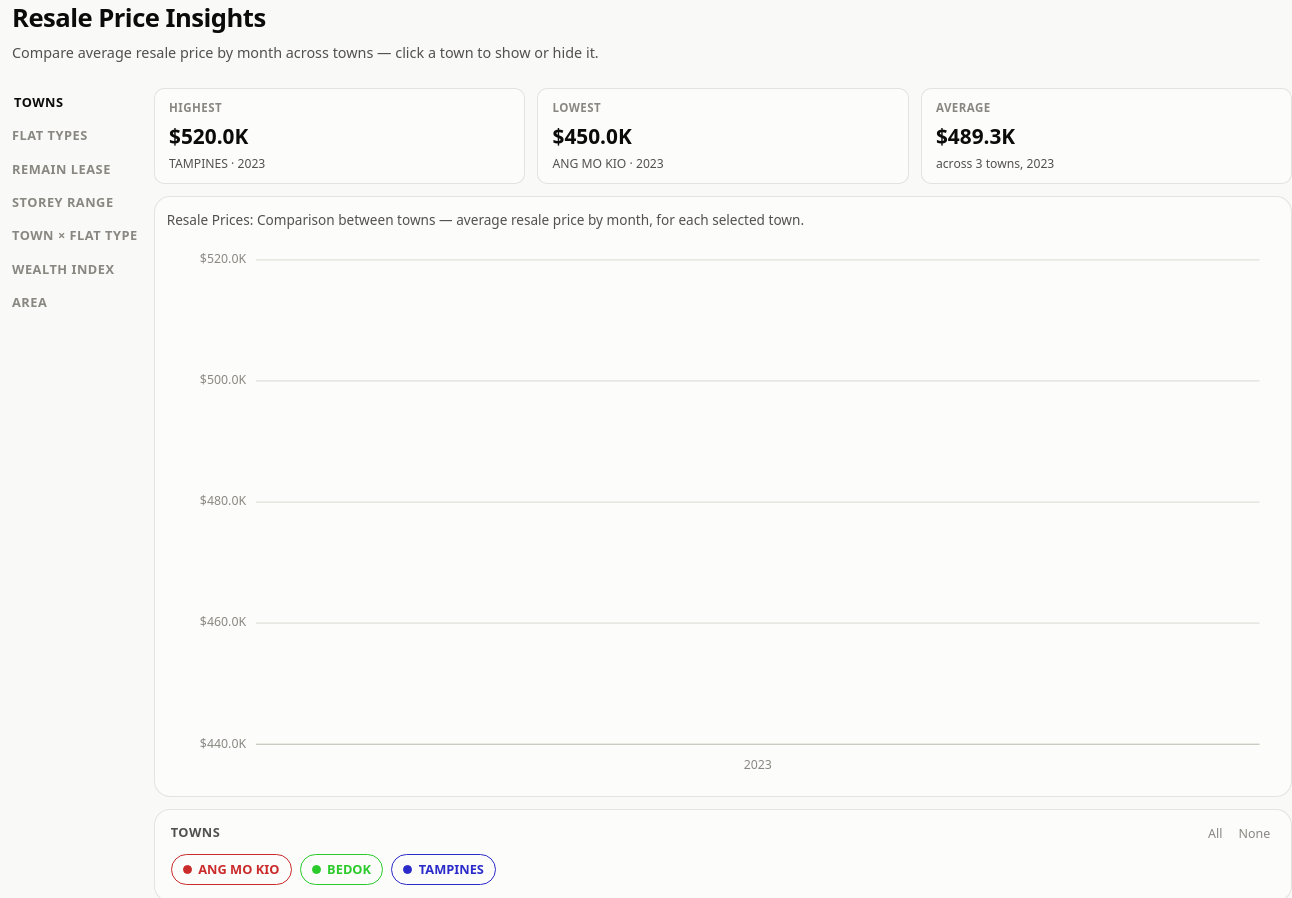
Scenario: InsightsPage › switches the Flat Types chart to the transaction count view via the metric toggle
Expected: the button "BEDOK" is shown, [300,854,383,885]
Click the button "Flat Types". click: (75, 136)
box: [12,121,138,151]
(page scrolled)
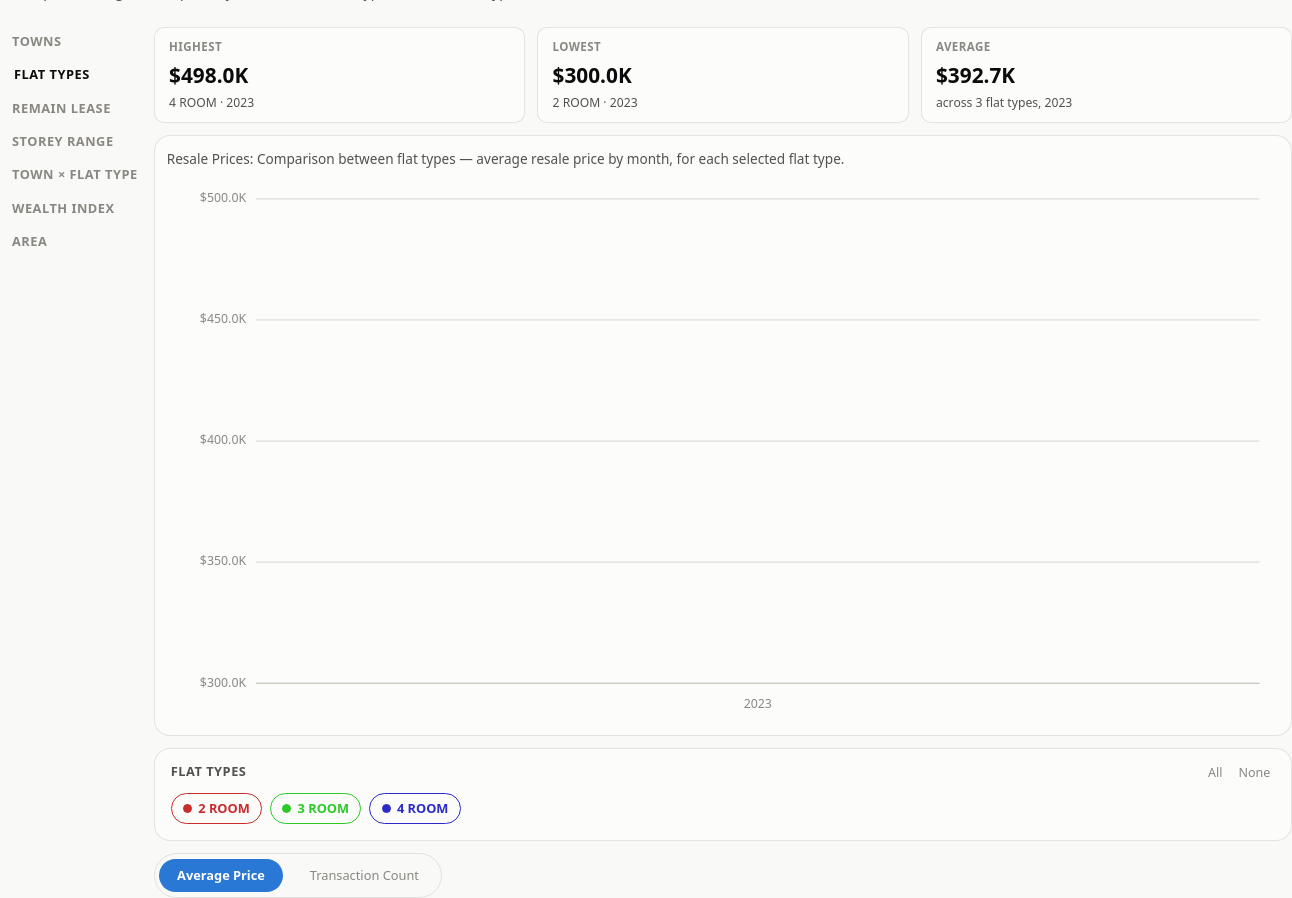
Expected: the button "4 ROOM" is shown, [369,793,461,824]
Click the button "Transaction Count". click: (364, 876)
box: [292,859,436,892]
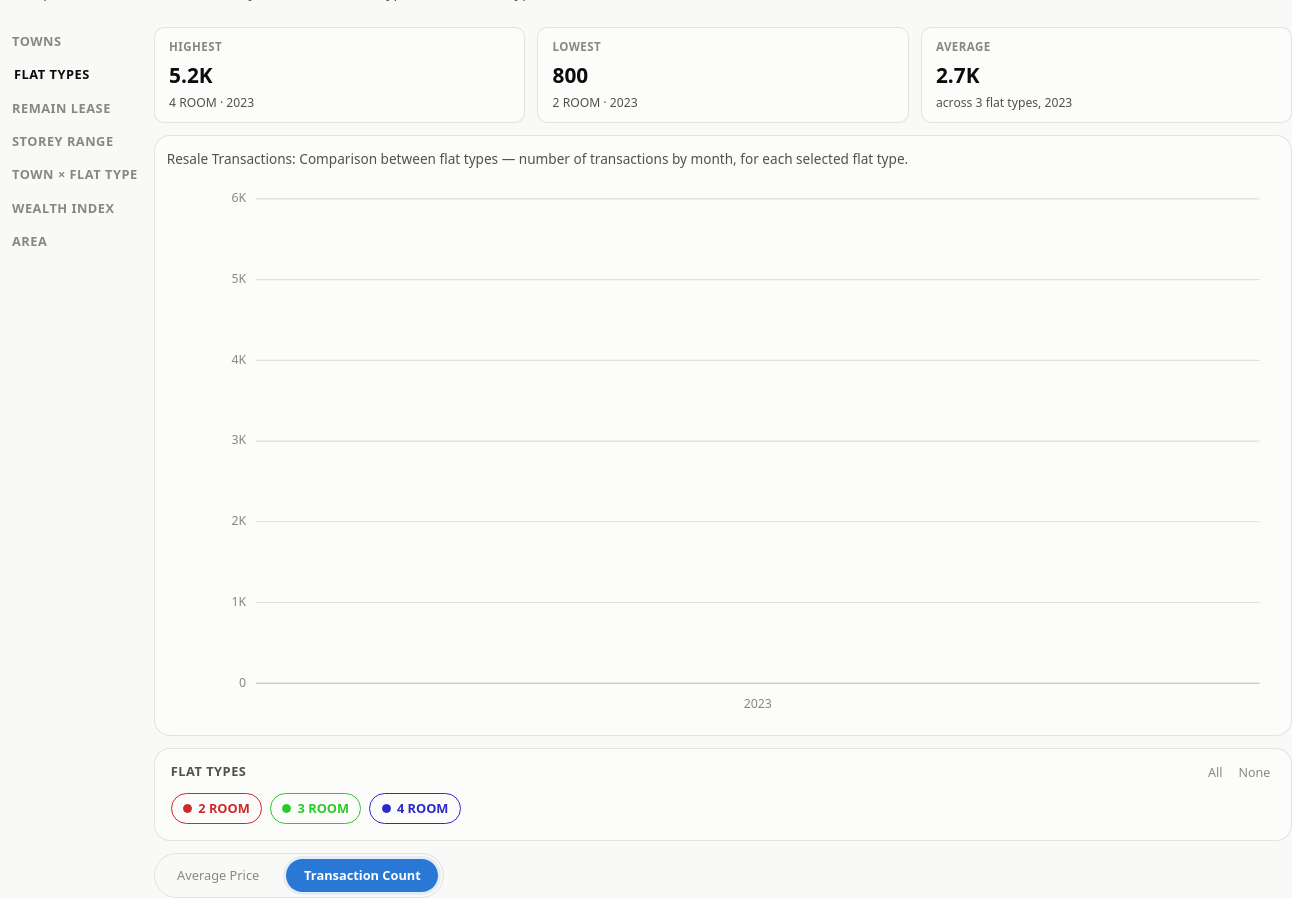
Expected: the picture named "number of transactions comparison between flat types" is shown, [167,179,1279,723]
